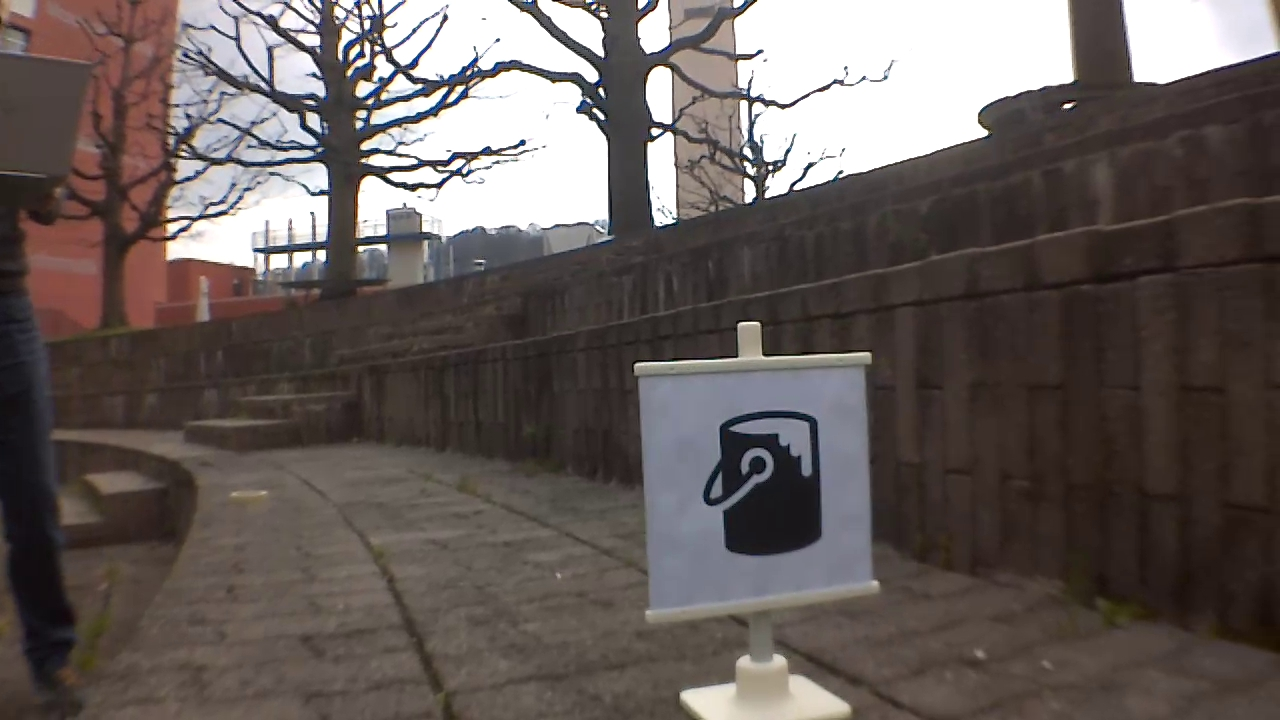bucket: (707, 410, 824, 558)
